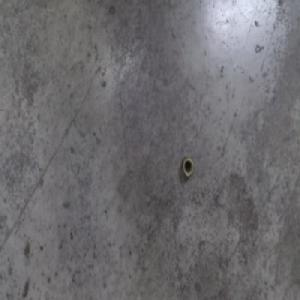Nut: (181, 155, 194, 179)
